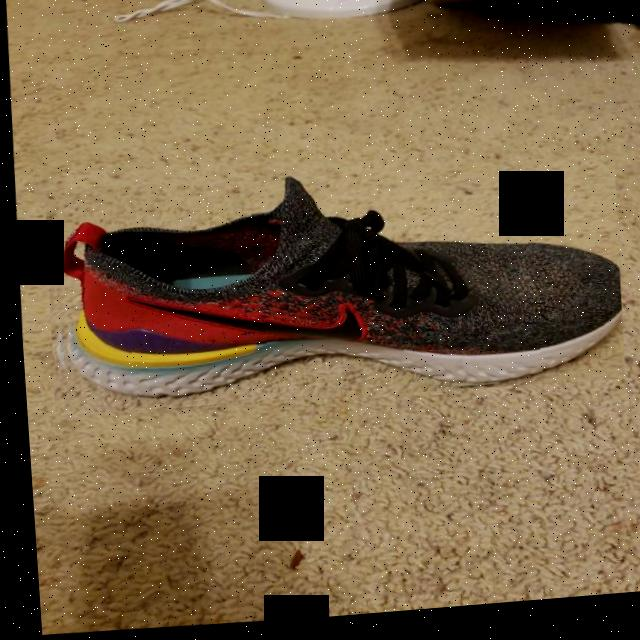shoe: (37, 155, 622, 425)
